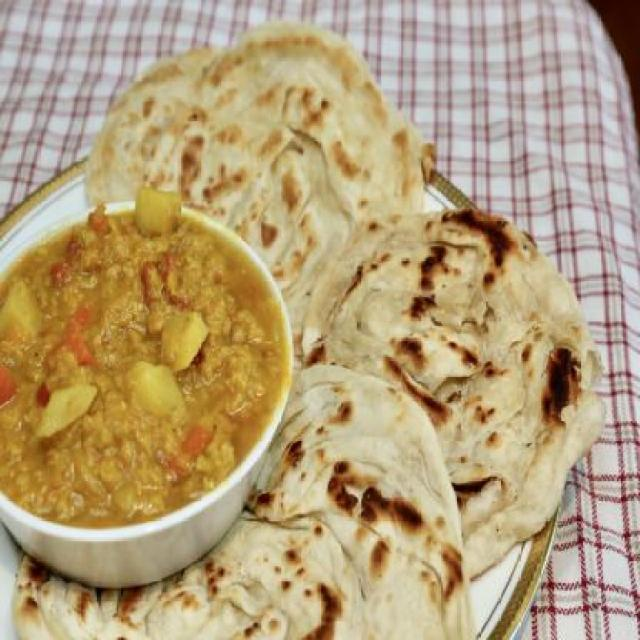chapati: (13, 363, 476, 640), (87, 20, 425, 358), (301, 207, 607, 578)
